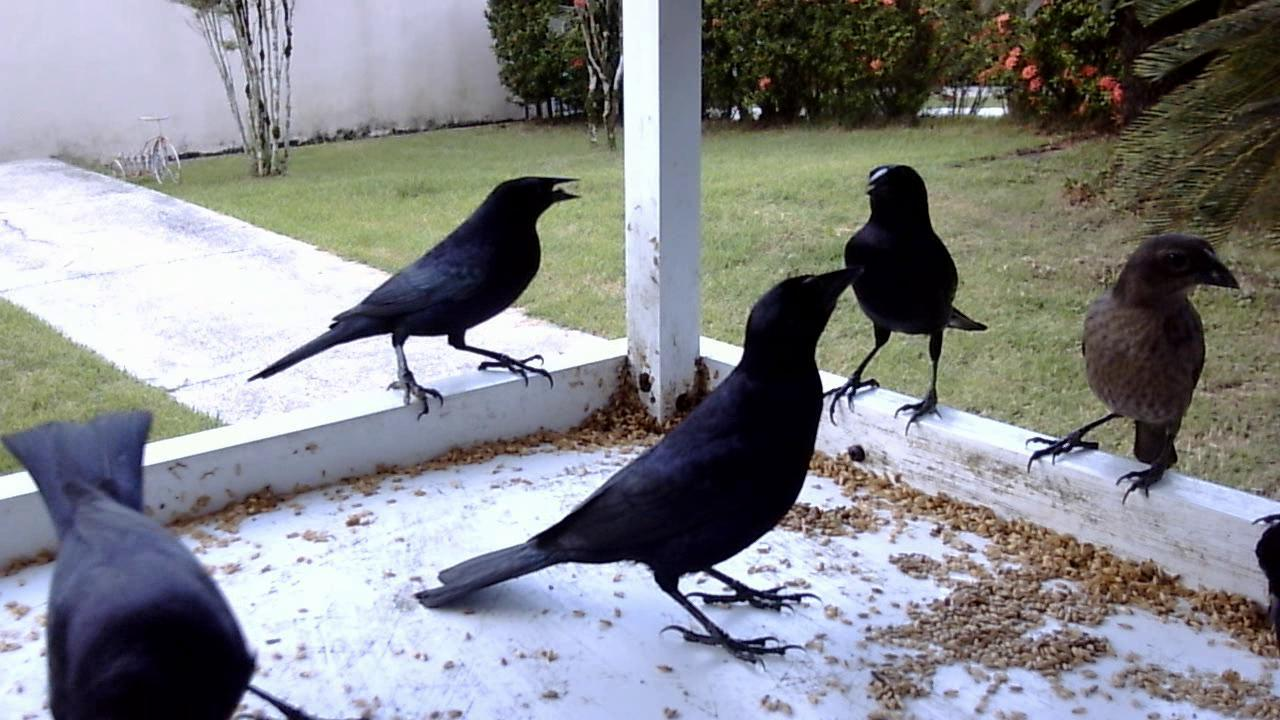chupim: (409, 261, 874, 675), (4, 406, 337, 712), (242, 173, 584, 423), (1021, 222, 1256, 512), (821, 159, 989, 453)
